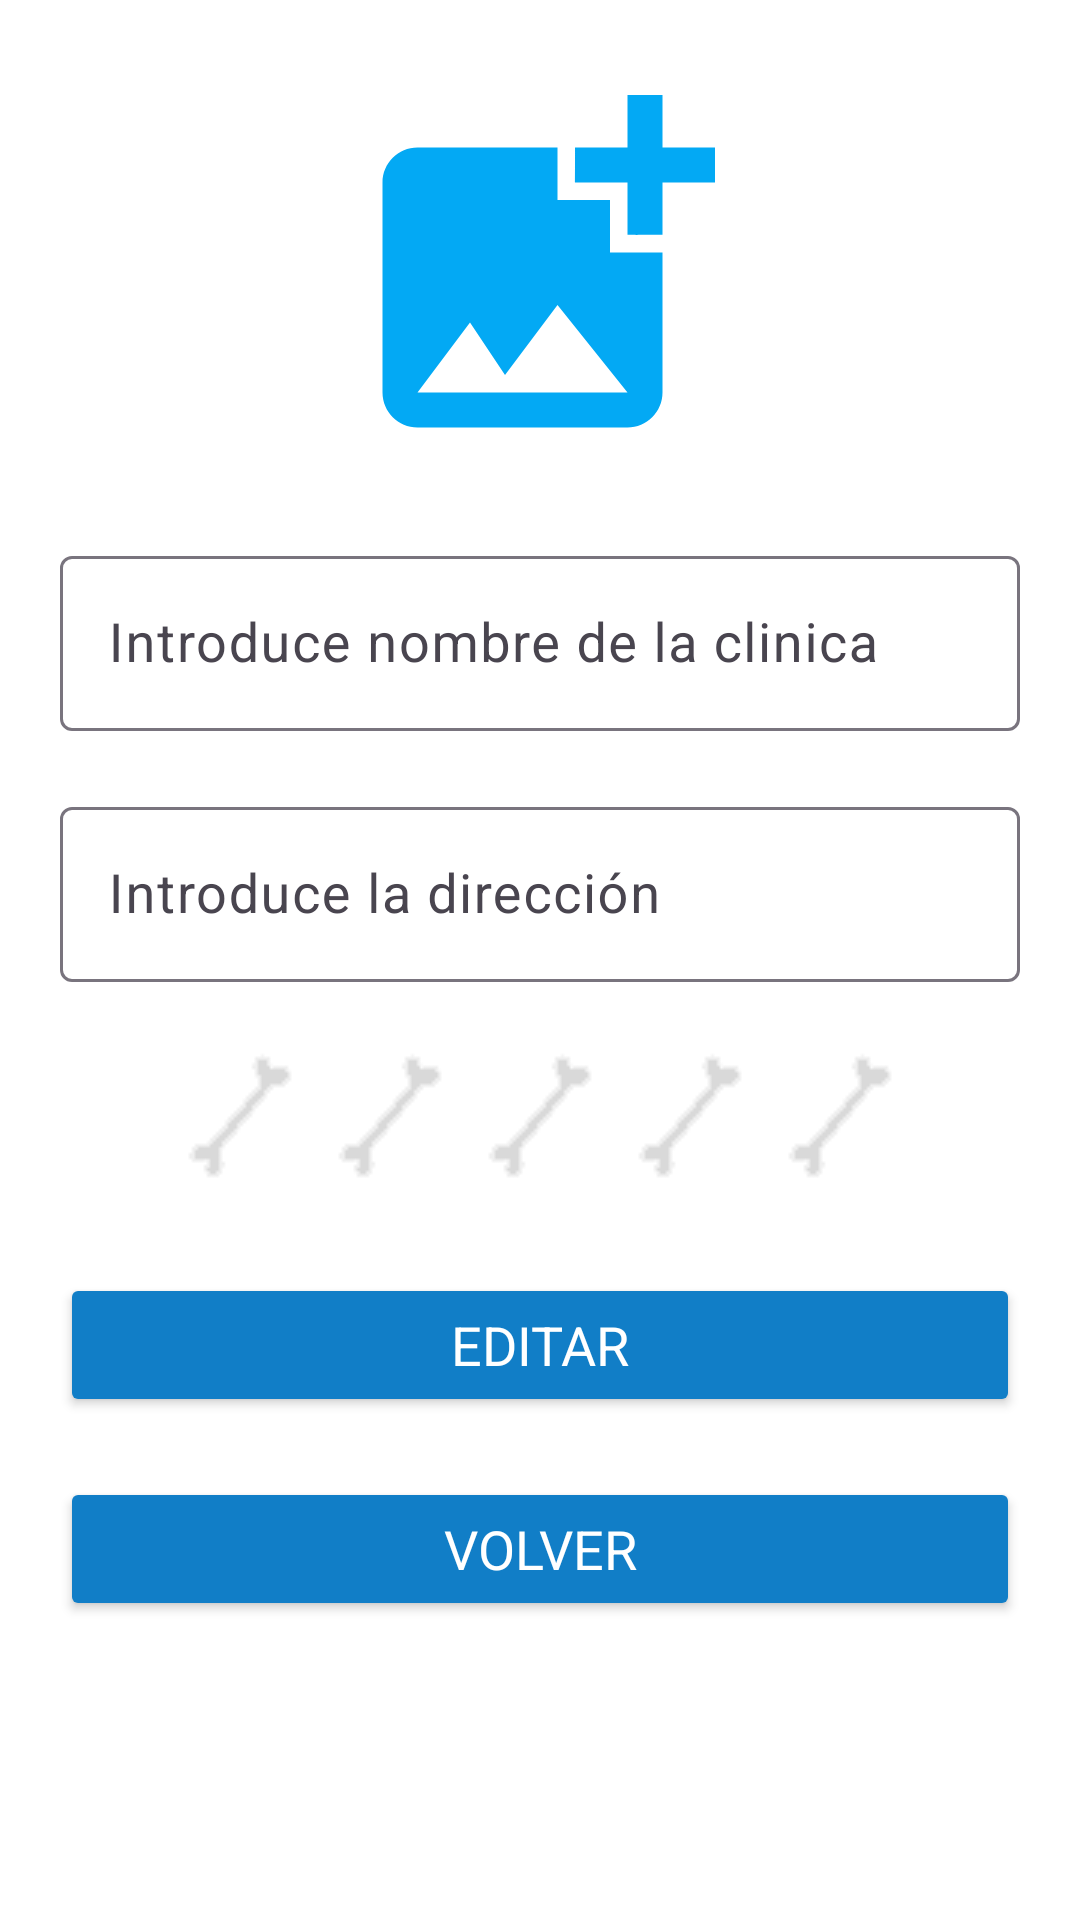

Locate icon controls on the screen. Image size 1080*1920, boxes as (x1, y1, x2, y2).
photo: (382, 95, 715, 428)
